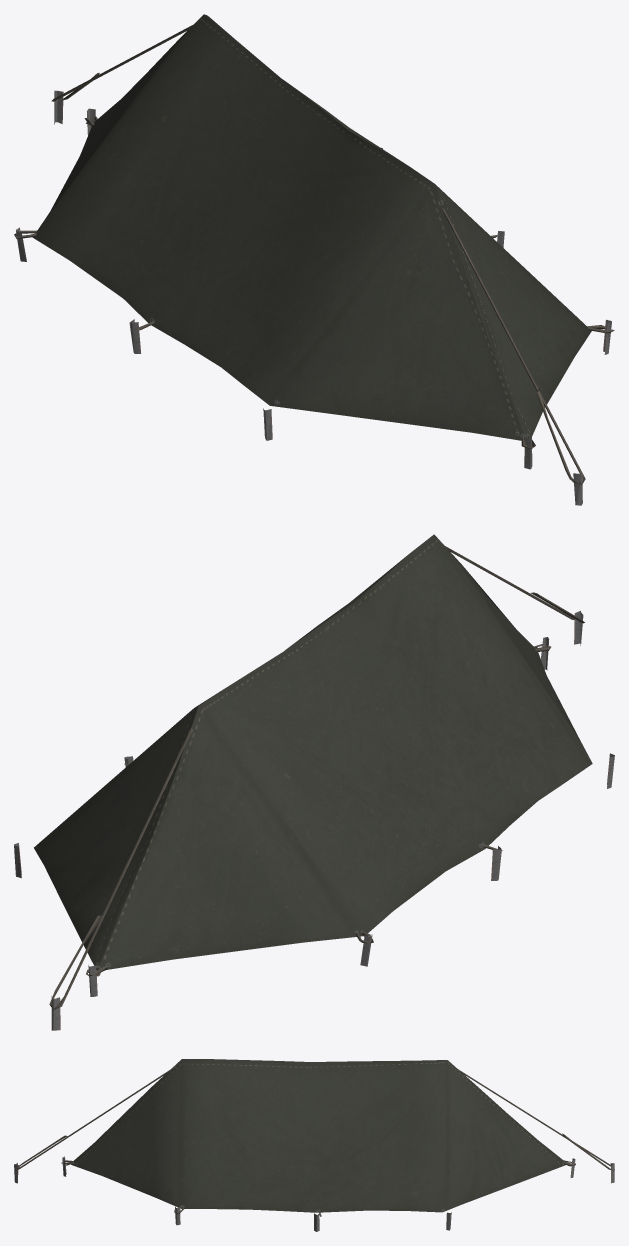
The model's file is SM_Tent_03a.FBX.
3 views of the same model, one above another, from view 1: azimuth 30°, elevation 25°; view 2: azimuth 150°, elevation 25°; view 3: azimuth 270°, elevation 25° (orthographic). The views are drawn at different scales.
Visible parts, largest first — view 1: SM_Tent_03a; view 2: SM_Tent_03a; view 3: SM_Tent_03a.
Part boxes in pixels (<box>): SM_Tent_03a: <box>14,14,614,505</box>; SM_Tent_03a: <box>14,534,614,1030</box>; SM_Tent_03a: <box>14,1059,614,1231</box>.
Size of the model in its own units: 143 by 78.7 by 347.
